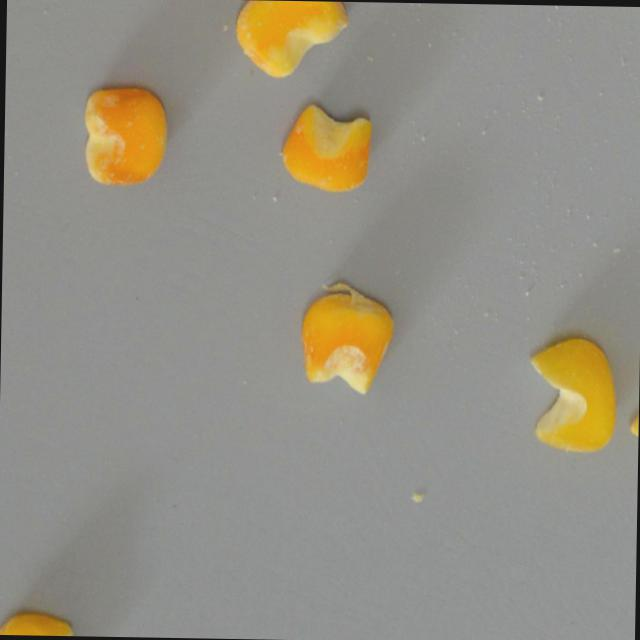pelicula: (295, 279, 394, 395), (527, 334, 619, 455), (235, 0, 349, 78), (83, 86, 168, 186), (281, 107, 372, 192), (629, 348, 640, 457)
